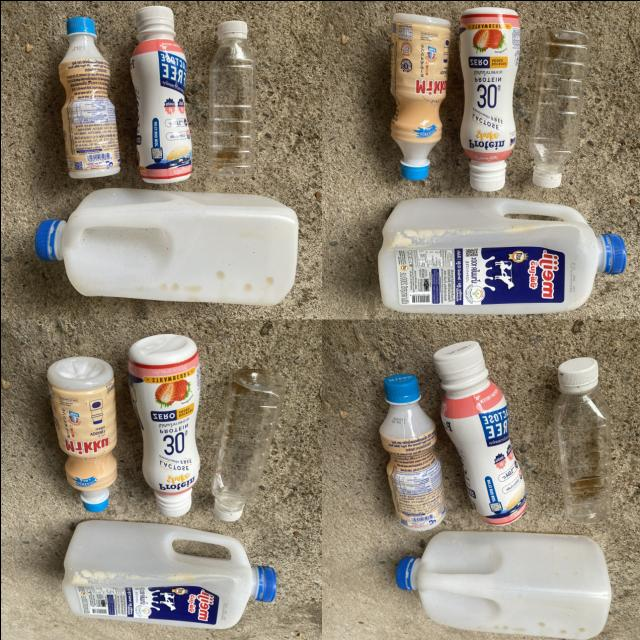plastik: (34, 188, 297, 305), (378, 197, 624, 311), (395, 530, 610, 639), (62, 520, 276, 628), (433, 340, 525, 525), (127, 334, 199, 516), (212, 368, 285, 520), (458, 7, 518, 190), (130, 5, 191, 183), (47, 356, 116, 511), (379, 373, 444, 530), (529, 28, 591, 188), (390, 12, 449, 179), (58, 16, 118, 178), (552, 357, 610, 524), (208, 19, 256, 175)
